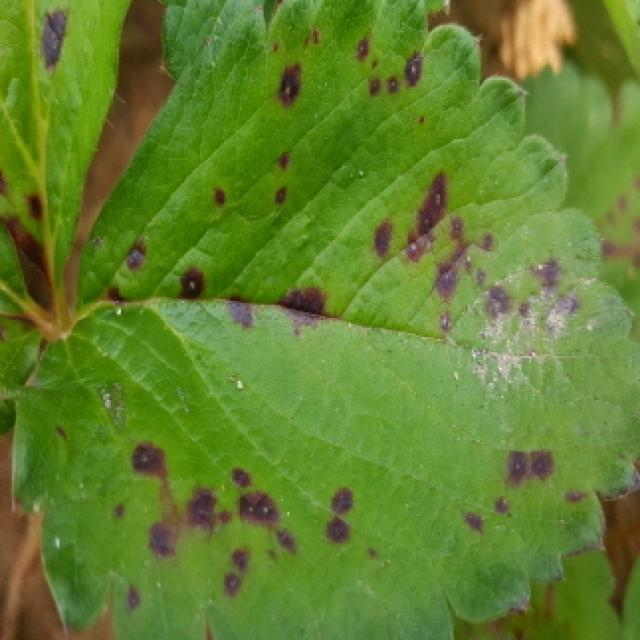Leaf Spot: (8, 0, 640, 640), (523, 60, 640, 342), (518, 551, 629, 640)
